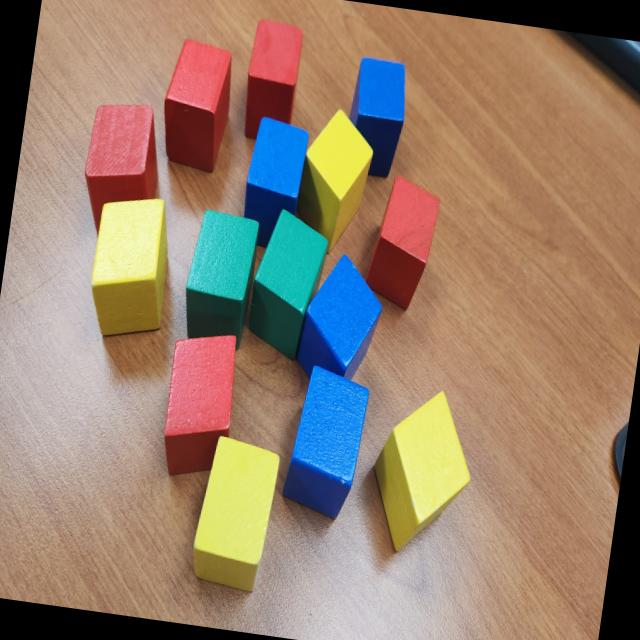blue: (278, 362, 372, 522), (291, 249, 390, 392), (237, 116, 313, 254), (340, 56, 413, 182)
green: (241, 210, 332, 364), (178, 208, 260, 352)
red: (156, 326, 243, 484), (75, 99, 169, 244), (156, 36, 242, 176), (359, 173, 444, 314), (238, 18, 306, 145)
yellow: (363, 382, 482, 560), (82, 190, 180, 345), (188, 435, 282, 595), (292, 104, 378, 250)
